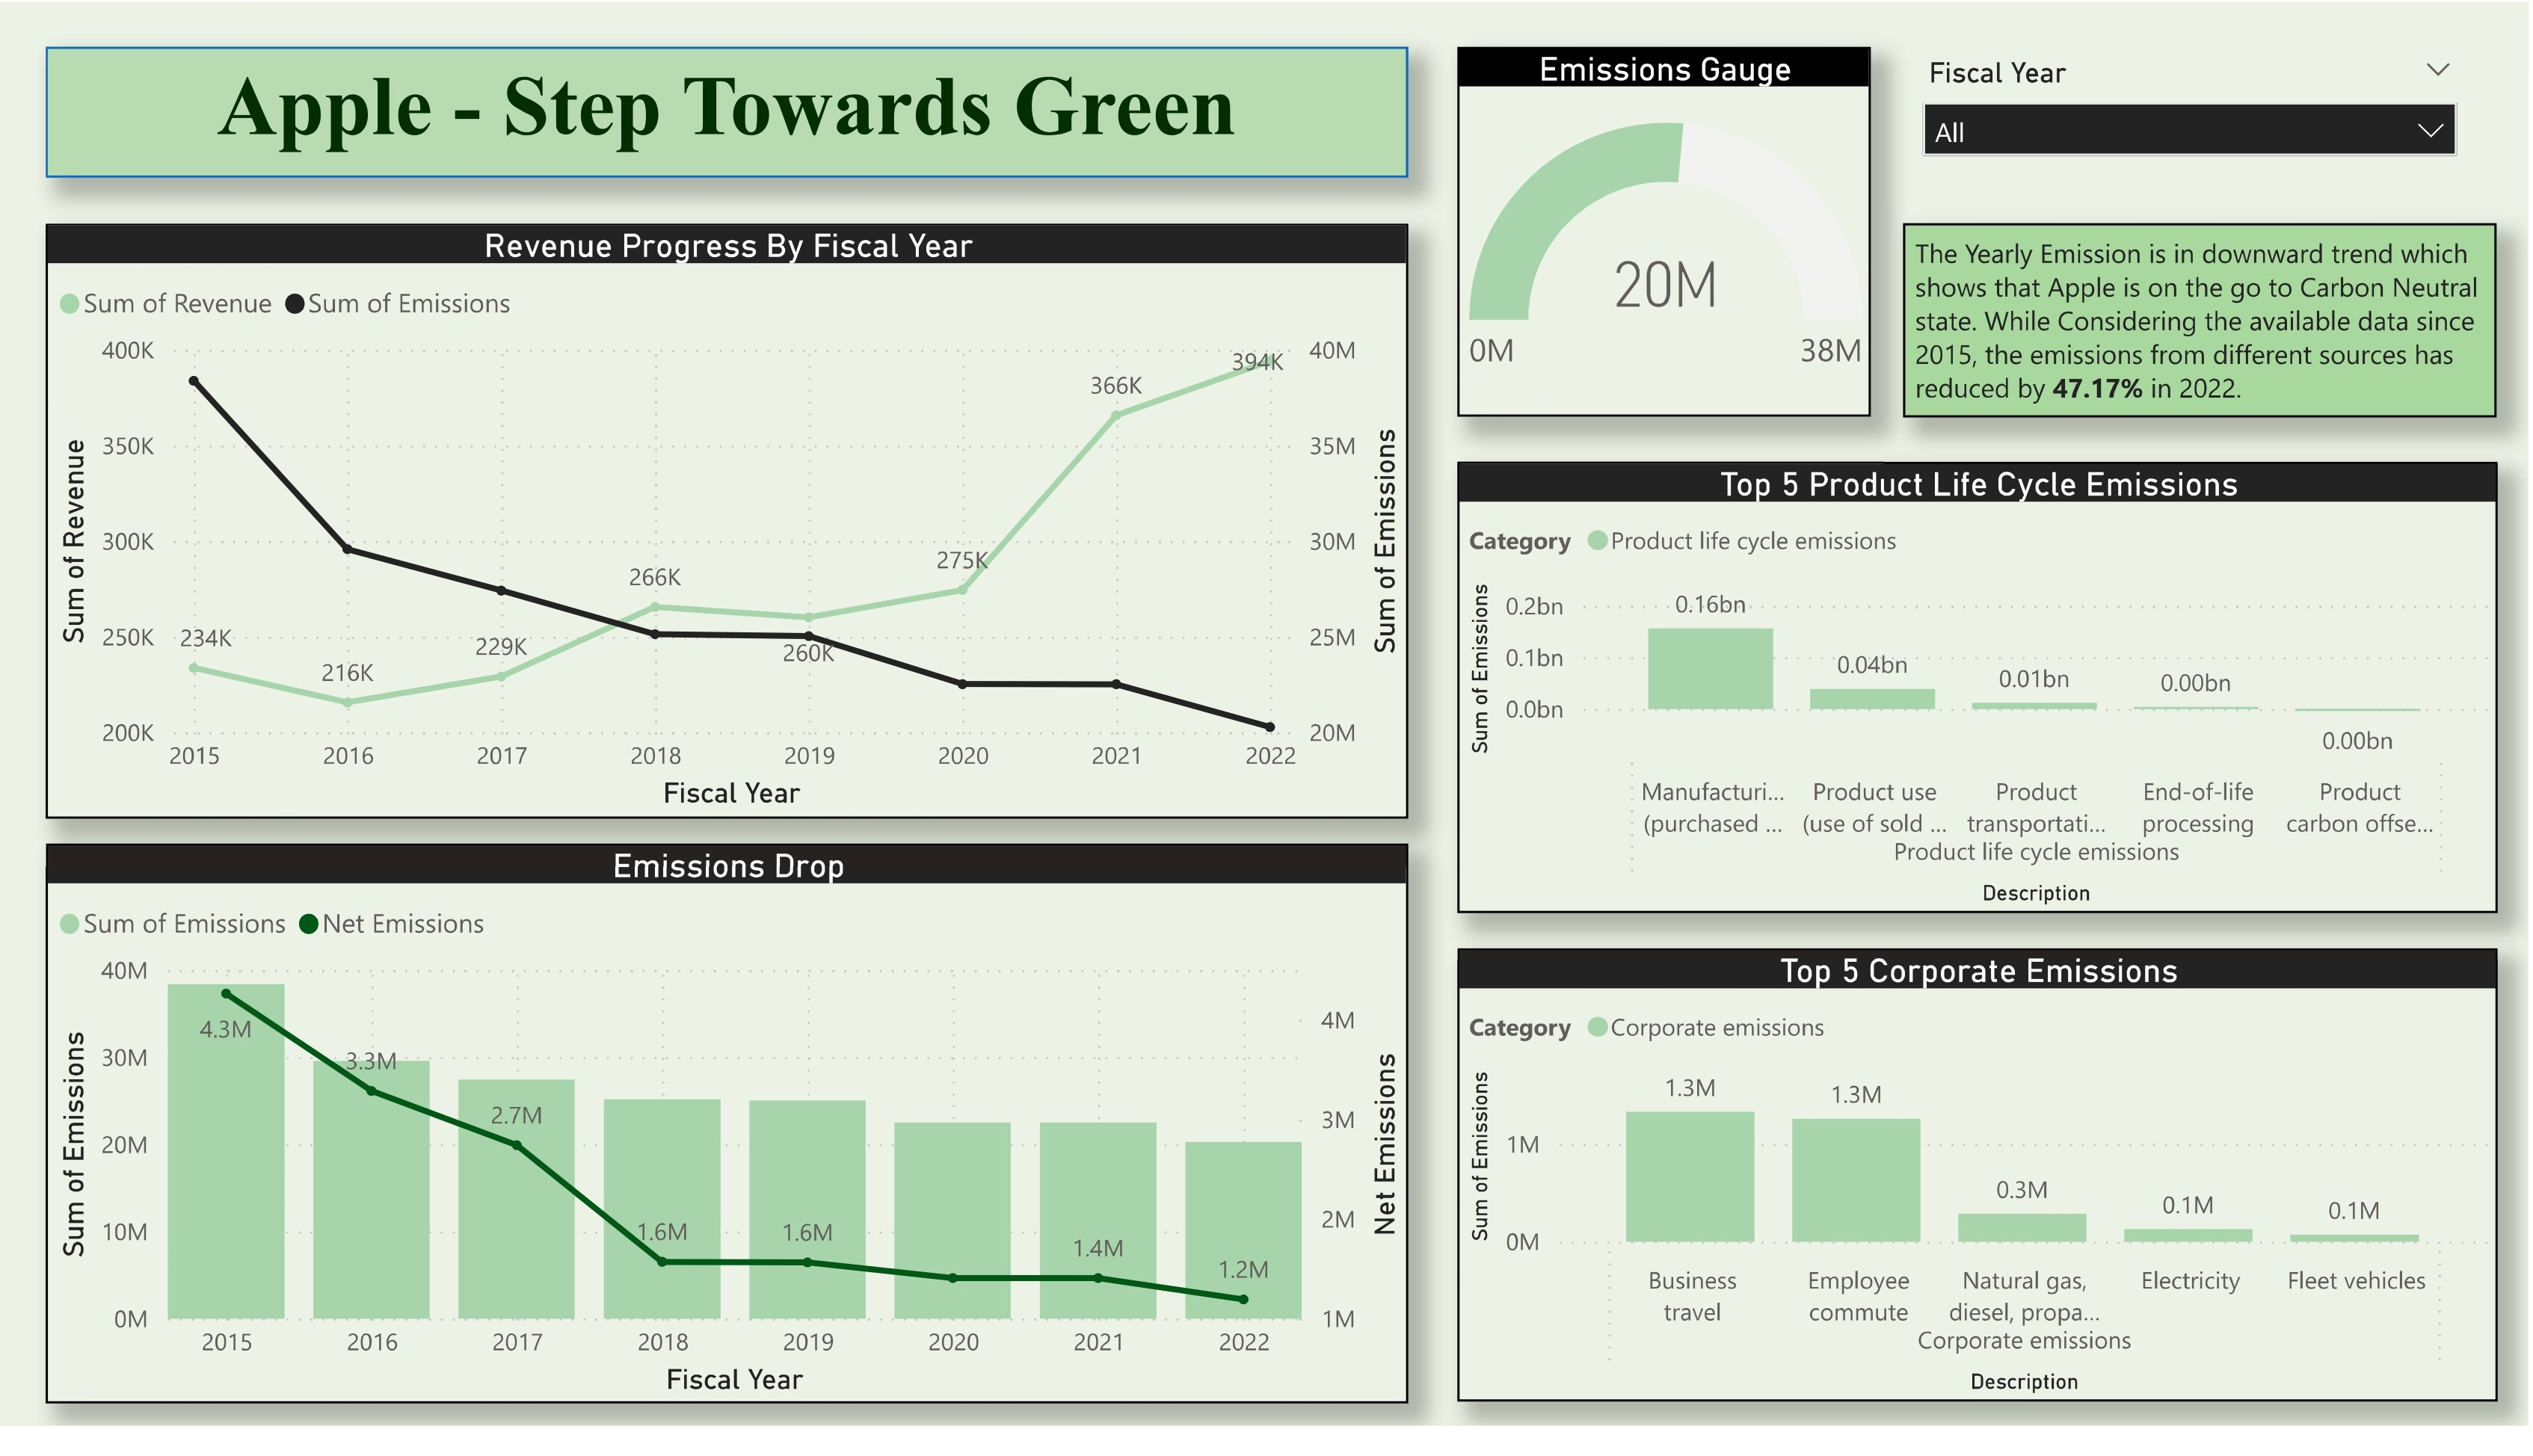

This screenshot's page, from the dashboard's own definition file:
{"tool":"powerbi","page":{"name":"Progress Report","canvas":[1280,720],"ordinal":0},"visuals":[{"type":"lineStackedColumnComboChart","title":"Emissions Drop","fields":{"Y":["Sum(greenhouse_gas_emissions.Emissions)"],"Category":["greenhouse_gas_emissions.Fiscal Year"],"Y2":["Avg(greenhouse_gas_emissions.Emissions)"]},"box":[24.7,425.4,688.9,282.7],"z":0},{"type":"gauge","title":"Emissions Gauge","fields":{"Y":["carbon_footprint_by_product.2022_Emissions"],"MaxValue":["carbon_footprint_by_product.2015_Emissions"]},"box":[738.1,22.9,208.6,186.9],"z":1000},{"type":"lineChart","title":"Revenue Progress By Fiscal Year","fields":{"Category":["normalizing_factors.Fiscal Year"],"Y":["Sum(normalizing_factors.Revenue)"],"Y2":["Sum(greenhouse_gas_emissions.Emissions)"]},"box":[24.7,112.5,688.9,300.5],"z":2000},{"type":"clusteredColumnChart","title":"Top 5 Corporate Emissions","fields":{"Category":["greenhouse_gas_emissions.Description","greenhouse_gas_emissions.Category"],"Y":["Sum(greenhouse_gas_emissions.Emissions)"],"Series":["greenhouse_gas_emissions.Category"]},"box":[738.1,478.8,525.8,229.1],"z":3000},{"type":"clusteredColumnChart","title":"Top 5 Product Life Cycle Emissions","fields":{"Category":["greenhouse_gas_emissions.Description","greenhouse_gas_emissions.Category"],"Y":["Sum(greenhouse_gas_emissions.Emissions)"],"Series":["greenhouse_gas_emissions.Category"]},"box":[738.1,232.8,525.8,227.9],"z":4000},{"type":"shape","box":[24.7,23.3,688.9,65.9],"z":5000},{"type":"textbox","box":[24.7,23.3,688.9,65.9],"z":6000},{"type":"slicer","fields":{"Values":["normalizing_factors.Fiscal Year"]},"box":[963.3,23.3,289.5,65.9],"z":7000},{"type":"textbox","box":[963.6,112.2,300.3,97.7],"z":7001}]}

Visuals, with their boxes in screenshot pixels (x1, y1, x2, y2), scaled from the page's 1280x720 canvas onto the 2533x1456 screenshot:
"Emissions Drop" lineStackedColumnComboChart: pyautogui.locateOnScreen(49, 860, 1412, 1432)
"Emissions Gauge" gauge: pyautogui.locateOnScreen(1461, 46, 1874, 425)
"Revenue Progress By Fiscal Year" lineChart: pyautogui.locateOnScreen(49, 227, 1412, 835)
"Top 5 Corporate Emissions" clusteredColumnChart: pyautogui.locateOnScreen(1461, 968, 2501, 1431)
"Top 5 Product Life Cycle Emissions" clusteredColumnChart: pyautogui.locateOnScreen(1461, 471, 2501, 931)
shape: pyautogui.locateOnScreen(49, 47, 1412, 180)
textbox: pyautogui.locateOnScreen(49, 47, 1412, 180)
slicer - normalizing_factors.Fiscal Year: pyautogui.locateOnScreen(1906, 47, 2479, 180)
textbox: pyautogui.locateOnScreen(1907, 227, 2501, 425)
